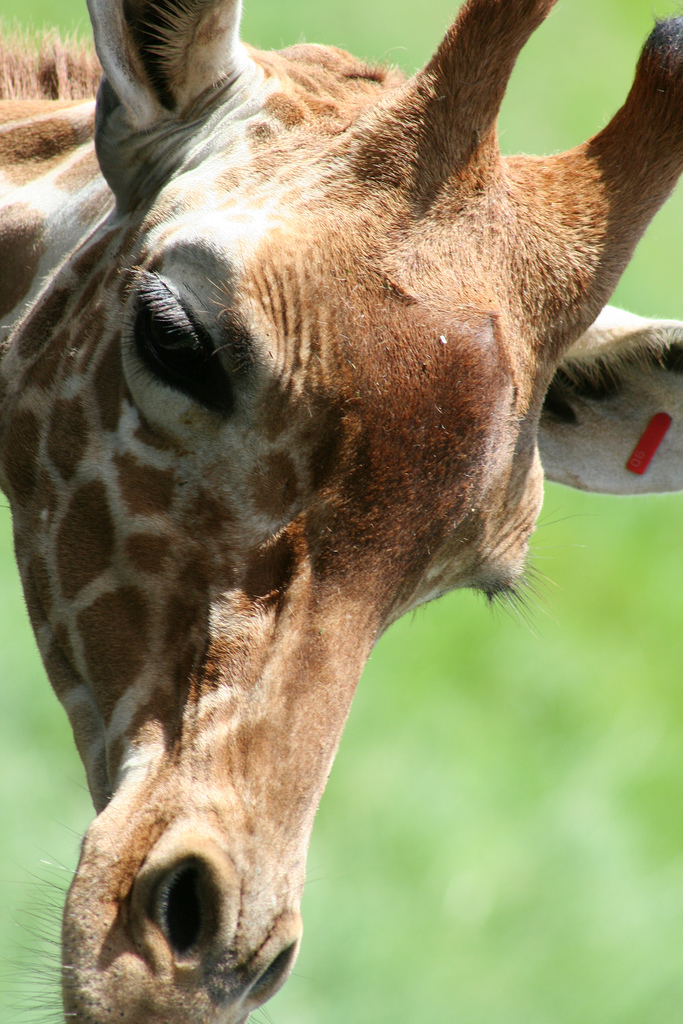giraffe: (19, 19, 616, 988)
